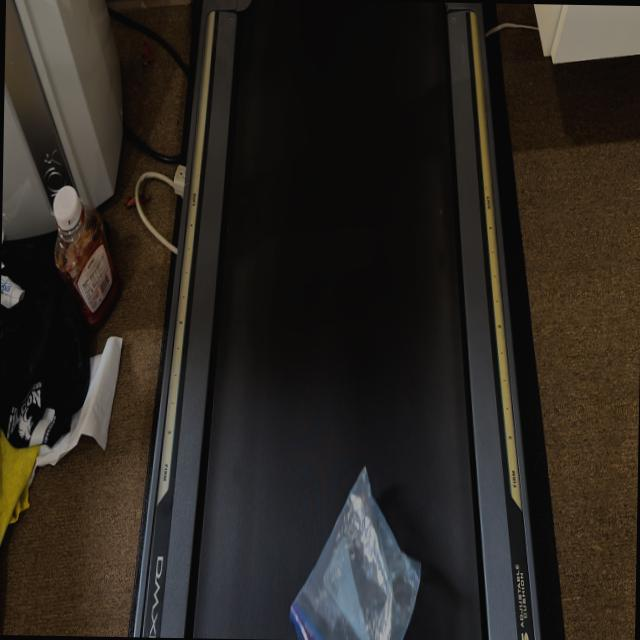Trash: (285, 461, 423, 640)
